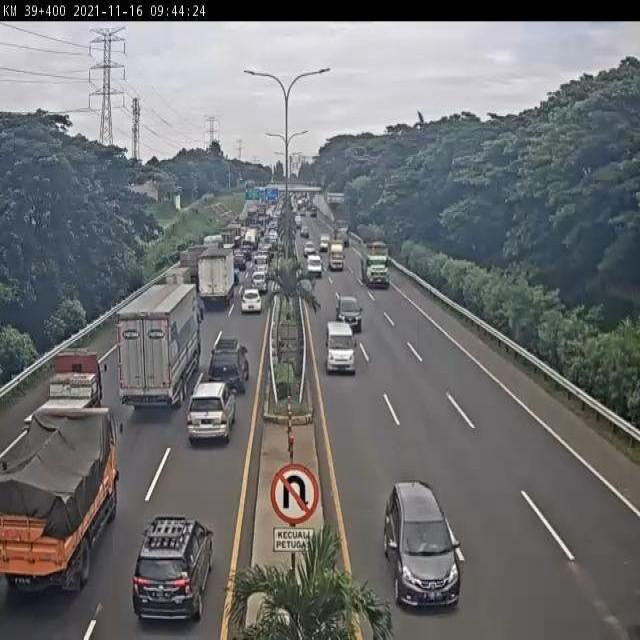car: (385, 477, 461, 612), (131, 516, 215, 623), (188, 381, 237, 447), (210, 339, 251, 392), (325, 321, 357, 379), (337, 296, 364, 335), (243, 288, 263, 313)
truck-l-: (116, 282, 206, 414), (361, 241, 391, 291)
truck-m-: (0, 402, 122, 598), (22, 347, 109, 449), (200, 245, 234, 308)
